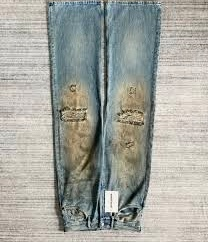earth: (62, 85, 93, 180), (116, 86, 141, 177)
